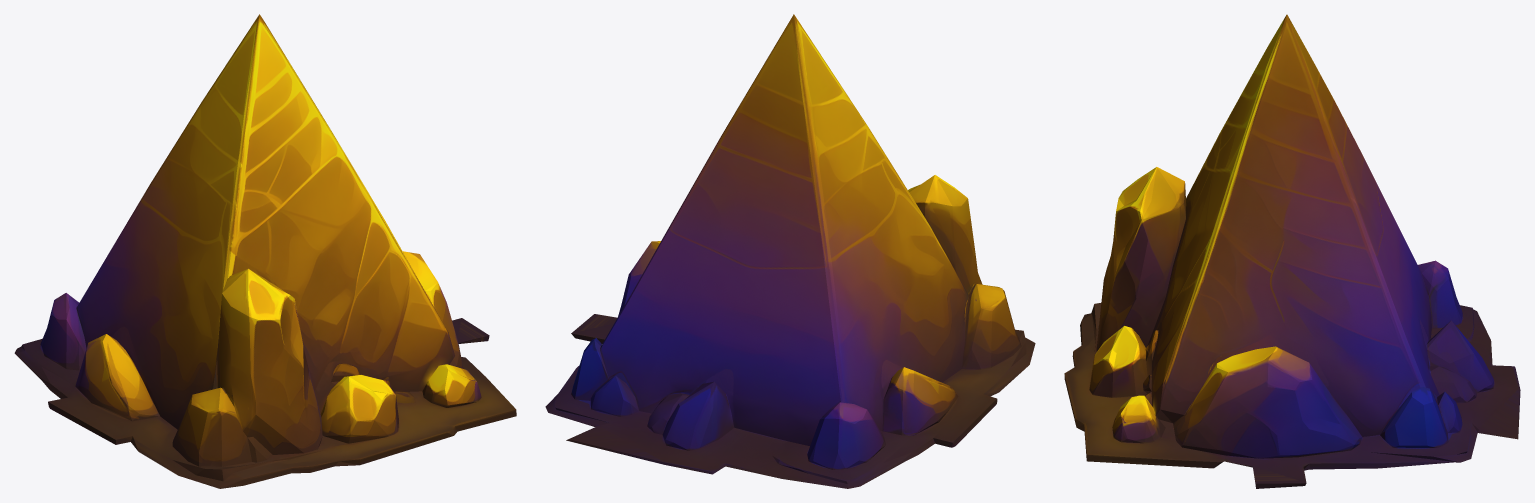
The model's file is SM_Ore28.fbx.
3 renders of one model, left to right at view 1: azimuth 30°, elevation 25°; view 2: azimuth 150°, elevation 25°; view 3: azimuth 270°, elevation 25°, orthographic.
Visible parts, largest first — view 1: Ore28; view 2: Ore28; view 3: Ore28.
Boxes of the visible parts, bbox=[...] form: Ore28: bbox=[14, 14, 516, 488]; Ore28: bbox=[545, 14, 1035, 488]; Ore28: bbox=[1064, 14, 1520, 488].
Bounding box in the file's own units: 155 × 136 × 152.
1 material, 1 textured.
